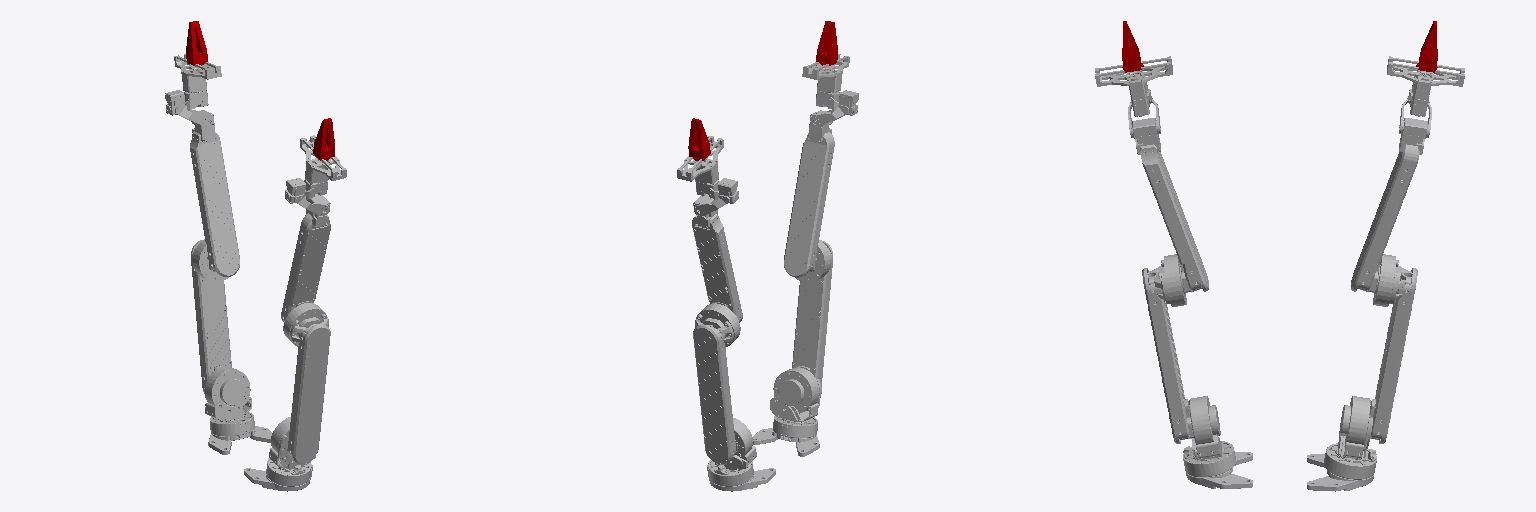
robot.urdf — anubis:
<?xml version="1.0" ?>
<!-- =================================================================================== -->
<!-- |    This document was autogenerated by xacro from pal.urdf.xacro                 | -->
<!-- |    EDITING THIS FILE BY HAND IS NOT RECOMMENDED                                 | -->
<!-- =================================================================================== -->
<robot name="anubis">
  
  <link name="base_link">
  	<inertial>
  		<!-- Inertial frame at link origin -->
		<origin xyz="0 0 0" rpy="0 0 0"/>
		<!-- Mass of the base -->
  		<mass value="132.3898489950015"/>
  		<!-- Moments of inertia about the link frame axes -->
      <inertia ixx="0.185196122711036"
            ixy="4.30144213829512E-08"
            ixz="5.81037523686401E-08"
            iyy="0.364893736238929"
            iyz="-0.000386720198091934"
            izz="0.223868521722778"/>
	</inertial>
    <visual>
      <origin xyz="0 0 0" rpy="0 0 0"/>
      <geometry>
        <mesh filename="package://anubis/meshes/anubis_base.stl"/>
      </geometry>
      <material name="">
        <color rgba="0.75294 0.75294 0.75294 1"/>
      </material>    
    </visual>
    <collision>
      <origin xyz="0 0 0" rpy="0 0 0"/>
      <geometry>
        <mesh filename="package://anubis/meshes/anubis_base.stl"/>
      </geometry>
    </collision>
  </link>
<!--- ARM1, RIGHT SLAVE-->
   <joint name="arm1_base_joint" type="fixed">
    <parent link="base_link"/>
    <child link="arm1_base_link"/>
    <origin xyz="0 0 0" rpy="0 0 0"/>
    <!-- <origin xyz="-0.095 0  0.579" rpy="0 0 0"/> -->
    <!-- <origin xyz="-0.095 -0.135470  0.623356" rpy="0.174533 0 0"/> -->
  </joint>

  <link name="arm1_base_link">
    <visual>
      <origin rpy="0 0 0" xyz="0 0 0"/>
      <geometry>
        <mesh filename="package://anubis/meshes/arm_base_link.stl"/>
      </geometry>
      <material name="">
        <color rgba="0.75294 0.75294 0.75294 1"/>
      </material>
    </visual>
    <collision>
      <origin rpy="0 0 0" xyz="0 0 0"/>
      <geometry>
        <mesh filename="package://anubis/meshes/arm_base_link.stl"/>
      </geometry>
    </collision>
  </link>

  <joint name="arm1_base_link_joint" type="revolute">
    <parent link="arm1_base_link"/>
    <child link="link11"/>
    <origin xyz="-0.095 -0.135470  0.82335578" rpy="0.174533 0 0"/>
    <axis xyz="0 0 1"/>
    <limit effort="39" lower="-2.41" upper="2.41" velocity="1.3963"/>
  </joint>
  <link name="link11">
    <inertial>
            <origin xyz="0 0 0" rpy="0 0 0" />
            <mass value="0.0608351104988555" />
            <inertia ixx="0.00008" ixy="0.00000" ixz="0.00001" iyy="0.00003" iyz="0.00000" izz="0.00007" />
    </inertial>
    <visual>
      <origin rpy="0 0 0" xyz="0 0 0"/>
      <geometry>
        <mesh filename="package://anubis/meshes/link1.stl"/>
      </geometry>
      <material name="">
        <color rgba="0.75294 0.75294 0.75294 1"/>
      </material>
    </visual>
    <collision>
      <origin rpy="0 0 0" xyz="0 0 0"/>
      <geometry>
         <mesh filename="package://anubis/meshes/link1.stl"/>
      </geometry>
    </collision>
  </link>

  <joint name="link11_joint" type="revolute">
    <parent link="link11"/>
    <child link="link12"/>
    <origin rpy="0 0 0" xyz="0 0 0.062"/>
    <axis xyz="0 1 0"/>
    <limit effort="39" lower="-2.41" upper="2.41" velocity="1.3963"/>
  </joint>
  <link name="link12">
        <inertial>
            <origin xyz="0 0 0" rpy="0 0 0" />
            <mass value="1.0733279014126" />
            <inertia ixx="0.00008" ixy="0.00000" ixz="0.00001" iyy="0.00003" iyz="0.00000" izz="0.00007" />
    </inertial>
    <visual>
      <origin rpy="0 0 0" xyz="0 0 -0.062"/>
      <geometry>
        <mesh filename="package://anubis/meshes/link2.stl"/>
      </geometry>
      <material name="">
        <color rgba="0.75294 0.75294 0.75294 1"/>
      </material>
    </visual>  
    <collision>
      <origin rpy="0 0 0" xyz="0 0 -0.062"/>
      <geometry>
        <mesh filename="package://anubis/meshes/link2.stl"/>
      </geometry>
    </collision>
  </link>
  <joint name="link12_joint" type="revolute">
    <parent link="link12"/>
    <child link="link13"/>
    <origin rpy="0 0 0" xyz="0 0 0.3"/>
    <axis xyz="0 1 0"/>
    <limit effort="39" lower="-2.41" upper="2.41" velocity="1.3963"/>
  </joint>
  <link name="link13">
    <inertial>
            <origin xyz="0 0 0" rpy="0 0 0" />
            <mass value="0.499404738025019" />
            <inertia ixx="0.00008" ixy="0.00000" ixz="0.00001" iyy="0.00003" iyz="0.00000" izz="0.00007" />
    </inertial>
    <visual>
      <origin rpy="0 0 0" xyz="0 0 -0.362"/>
      <geometry>
        <mesh filename="package://anubis/meshes/link3.stl"/>
      </geometry>
      <material name="">
        <color rgba="0.75294 0.75294 0.75294 1"/>
      </material>
    </visual>
    <collision>
      <origin rpy="0 0 0" xyz="0 0 -0.362"/>
      <geometry>
        <mesh filename="package://anubis/meshes/link3.stl"/>
      </geometry>
    </collision>
  </link>

  <joint name="link13_joint" type="revolute">
    <parent link="link13"/>
    <child link="link14"/>
    <origin rpy="0 0 0" xyz="0 0 0.32"/>
    <axis xyz="0 1 0"/>
    <limit effort="39" lower="-2.41" upper="2.41" velocity="1.3963"/>
  </joint>

  <link name="link14">
    <inertial>
            <origin xyz="0 0 0" rpy="0 0 0" />
            <mass value="0.0809712553169999" />
            <inertia ixx="0.00008" ixy="0.00000" ixz="0.00001" iyy="0.00003" iyz="0.00000" izz="0.00007" />
    </inertial>
    <visual>
      <origin rpy="0 0 0" xyz="0 0 -0.662"/>
      <geometry>
        <mesh filename="package://anubis/meshes/link4.stl"/>
      </geometry>
      <material name="">
        <color rgba="0.75294 0.75294 0.75294 1"/>
      </material>
    </visual>
    <collision>
      <origin rpy="0 0 0" xyz="0 0 -0.662"/>
      <geometry>
        <mesh filename="package://anubis/meshes/link4.stl"/>
      </geometry>
    </collision>
  </link>
  
  <joint name="link14_joint" type="revolute">
    <parent link="link14"/>
    <child link="link15"/>
    <origin rpy="0 0 0" xyz="0 0 0.04"/>
    <axis xyz="-1 0 0"/>
    <limit effort="39" lower="-2.41" upper="2.41" velocity="1.3963"/>
  </joint>

  <link name="link15">
    <inertial>
            <origin xyz="0 0 0" rpy="0 0 0" />
            <mass value="0.602357399313257" />
            <inertia ixx="0.00008" ixy="0.00000" ixz="0.00001" iyy="0.00003" iyz="0.00000" izz="0.00007" />
    </inertial>
    <visual>
      <origin rpy="0 0 0" xyz="0 0 -0.702"/>
      <geometry>
        <mesh filename="package://anubis/meshes/link5.stl"/>
      </geometry>
      <material name="">
        <color rgba="0.75294 0.75294 0.75294 1"/>
      </material>
    </visual>
     <collision>
       <origin rpy="0 0 0" xyz="0 0 -0.702"/>
       <geometry>
         <mesh filename="package://anubis/meshes/link5.stl"/>
       </geometry>
     </collision>
  </link>
  
  <joint name="link15_joint" type="revolute">
    <parent link="link15"/>
    <child link="ee_link1"/>
    <origin rpy="0 0 -1.57" xyz="0 0 0.027"/>
    <axis xyz="0 0 1"/>
    <limit effort="39" lower="-2.41" upper="2.41" velocity="1.3963"/>
  </joint>
  
  <link name="ee_link1" >
        <inertial>
            <origin xyz="0 0 0" rpy="0 0 0" />
            <mass value="0.0062357399313257" />
            <inertia ixx="0.00008" ixy="0.00000" ixz="0.00001" iyy="0.00003" iyz="0.00000" izz="0.00007" />
    </inertial>
  </link>

  <!--- gripper1-->
  <joint name="gripper_base_joint" type="fixed">
    <parent link="ee_link1"/>
    <child link="gripper_base_link"/>
    <origin rpy="0 0 0" xyz="0 0 0"/>
        <color rgba="0.75294 0.0 0.0 1"/>
  </joint>
  
  <link name="gripper_base_link" >
    <inertial>
            <origin xyz="0 0 0" rpy="0 0 0" />
            <mass value="0.62357399313257" />
            <inertia ixx="0.00008" ixy="0.00000" ixz="0.00001" iyy="0.00003" iyz="0.00000" izz="0.00007" />
    </inertial>
    <visual>
      <origin rpy="0 0 0" xyz="0.0 0 0"/>
      <geometry>
        <mesh filename="package://anubis/meshes/gripper/gripper_base_link.stl"/>
      </geometry>
      <material name="">
        <color rgba="0.75294 0.75294 0.75294 1"/>
      </material>
    </visual>
    <collision>
      <origin rpy="0 0 0" xyz="0.0 0 0"/>
      <geometry>
        <mesh filename="package://anubis/meshes/gripper/gripper_base_link.stl"/>
      </geometry>
    </collision>
  </link>

  <joint name="gripper1_joint" type="prismatic">
    <parent link="gripper_base_link"/>
    <child link="gripper1L"/>
    <origin rpy="0 0 0" xyz="0 0 0"/>
    <axis xyz="-1 0 0"/>
    <limit velocity="4.8" effort="1" lower="0" upper="0.04" />
  </joint>
  
  <link name="gripper1L" >
	<inertial>
  		<!-- Inertial frame at link origin -->
		<origin xyz="0 0 0" rpy="0 0 0"/>
		<!-- Mass of the gripper -->
  		<mass value="0.925"/>
  		<!-- Moments of inertia about the link frame axes -->
  		<inertia 
    			ixx="0.000347" ixy="0.0"    ixz="0.0"
			iyy="0.000561" iyz="0.0"
			izz="0.000771"/>
	</inertial>
    <visual>
      <origin rpy="0 0 0" xyz="0 0 0"/>
      <geometry>
        <mesh filename="package://anubis/meshes/gripper/fingerL.stl"/>
      </geometry>
      <material name="">
        <color rgba="0.75294 0.0 0.0 1"/>
      </material>
    </visual>
    <collision>
      <origin rpy="0 0 0" xyz="0 0 0"/>
      <geometry>
        <mesh filename="package://anubis/meshes/gripper/fingerL.stl"/>
</geometry>
  <contact_coefficients mu="0.5"  kp="5000.0"  kd="10.0" />
    </collision>
  </link>

  <joint name="gripper1R_joint" type="prismatic">
    <parent link="gripper_base_link"/>
    <child link="gripper1R"/>
    <origin rpy="0 0 0" xyz="0 0 0"/>
    <axis xyz="1 0 0"/>
    <limit velocity="4.8" effort="1" lower="0" upper="0.04" />
    <mimic joint="gripper1_joint" multiplier="1" offset="0" />
  </joint>

  <link name="gripper1R" >
	<inertial>
                <!-- Inertial frame at link origin -->
                <origin xyz="0 0 0" rpy="0 0 0"/>
                <!-- Mass of the gripper -->
                <mass value="0.925"/>
                <!-- Moments of inertia about the link frame axes -->
                <inertia 
                        ixx="0.000347" ixy="0.0"    ixz="0.0"
                        iyy="0.000561" iyz="0.0"
                        izz="0.000771"/>
	</inertial>
	  <visual>
      <origin rpy="0 0 0" xyz="0 0 0"/>
      <geometry>
        <mesh filename="package://anubis/meshes/gripper/fingerR.stl"/>
      </geometry>
      <material name="">
        <color rgba="0.75294 0.0 0.0 1"/>
      </material>
    </visual>
    <collision>
      <origin rpy="0 0 0" xyz="0 0 0"/>
      <geometry>
        <mesh filename="package://anubis/meshes/gripper/fingerR.stl"/>
</geometry>
<contact_coefficients mu="0.5"  kp="5000.0"  kd="10.0" />
    </collision>
  </link>


<!--- ARM2, LEFT SLAVE-->
  <joint name="arm2_base_joint" type="fixed">
    <parent link="base_link"/>
    <child link="arm2_base_link"/>
    <!-- <origin xyz="-0.095 0.135470  0.623356" rpy="0.174533 0 3.141592"/> -->
    <!-- <origin xyz="-0.095 0.135470  0.623356" rpy="-0.174533 0 0"/> -->
  </joint>


  <link name="arm2_base_link">
    <visual>
      <origin rpy="0 0 3.14159" xyz="-0.19 0 0"/>
      <geometry>
        <mesh filename="package://anubis/meshes/arm_base_link.stl"/>
      </geometry>
      <material name="">
      <color rgba="0.75294 0.75294 0.75294 1"/>
    </material>
    </visual>
    <collision> 
      <origin rpy="0 0 3.14159" xyz="-0.19 0 0"/>
      <geometry>
        <mesh filename="package://anubis/meshes/arm_base_link.stl"/>
      </geometry>
    </collision>
  </link>
  
  <joint name="arm2_base_link_joint" type="revolute">
    <parent link="arm2_base_link"/>
    <child link="link21"/>
    <origin xyz="-0.095 0.135470  0.82335578" rpy="0.174533 0 3.14159"/>
    <axis xyz="0 0 1"/>
    <limit effort="39" lower="-2.41" upper="2.41" velocity="1.3963"/>
  </joint>
  
  <link name="link21">
    <inertial>
            <origin xyz="0 0 0" rpy="0 0 0" />
            <mass value="0.0608351104988555" />
            <inertia ixx="0.00008" ixy="0.00000" ixz="0.00001" iyy="0.00003" iyz="0.00000" izz="0.00007" />
    </inertial>
    <visual>
      <origin rpy="0 0 0" xyz="0 0 0"/>
      <geometry>
        <mesh filename="package://anubis/meshes/link1.stl"/>
      </geometry>
      <material name="">
        <color rgba="0.75294 0.75294 0.75294 1"/>
      </material>
    </visual>
    <collision> 
      <origin rpy="0 0 0" xyz="0 0 0"/>
      <geometry>
        <mesh filename="package://anubis/meshes/link1.stl"/>
      </geometry>
    </collision>
  </link>

  <joint name="link21_joint" type="revolute">
    <parent link="link21"/>
    <child link="link22"/>
    <origin rpy="0 0 0" xyz="0 0 0.062"/>
    <axis xyz="0 -1 0"/>
    <limit effort="39" lower="-2.41" upper="2.41" velocity="1.3963"/>
  </joint>
  
  <link name="link22">
      <inertial>
            <origin xyz="0 0 0" rpy="0 0 0" />
            <mass value="1.0733279014126" />
            <inertia ixx="0.00008" ixy="0.00000" ixz="0.00001" iyy="0.00003" iyz="0.00000" izz="0.00007" />
    </inertial>
    <visual>
      <origin rpy="0 0 0" xyz="0 0 -0.062"/>
      <geometry>
        <mesh filename="package://anubis/meshes/link2.stl"/>
      </geometry>
      <material name="">
        <color rgba="0.75294 0.75294 0.75294 1"/>
      </material>
    </visual>
    <collision> 
      <origin rpy="0 0 0" xyz="0 0 -0.062"/>
      <geometry>
        <mesh filename="package://anubis/meshes/link2.stl"/>
      </geometry>
    </collision>
  </link>
  
  <joint name="link22_joint" type="revolute">
    <parent link="link22"/>
    <child link="link23"/>
    <origin rpy="0 0 0" xyz="0 0 0.3"/>
    <axis xyz="0 -1 0"/>
    <limit effort="39" lower="-2.41" upper="2.41" velocity="1.3963"/>
  </joint>

  <link name="link23">
    <inertial>
            <origin xyz="0 0 0" rpy="0 0 0" />
            <mass value="0.499404738025019" />
            <inertia ixx="0.00008" ixy="0.00000" ixz="0.00001" iyy="0.00003" iyz="0.00000" izz="0.00007" />
    </inertial>
    <visual>
      <origin rpy="0 0 0" xyz="0 0 -0.362"/>
      <geometry>
        <mesh filename="package://anubis/meshes/link3.stl"/>
      </geometry>
      <material name="">
        <color rgba="0.75294 0.75294 0.75294 1"/>
      </material>
    </visual>
    <collision> 
      <origin rpy="0 0 0" xyz="0 0 -0.362"/>
      <geometry>
        <mesh filename="package://anubis/meshes/link3.stl"/>
      </geometry>
    </collision>
  </link>

  <joint name="link23_joint" type="revolute">
    <parent link="link23"/>
    <child link="link24"/>
    <origin rpy="0 0 3.14159" xyz="0 0 0.32"/>
    <axis xyz="0 1 0"/>
    <limit effort="39" lower="-2.41" upper="2.41" velocity="1.3963"/>
  </joint>
  
  <link name="link24">
    <inertial>
            <origin xyz="0 0 0" rpy="0 0 0" />
            <mass value="0.0809712553169999" />
            <inertia ixx="0.00008" ixy="0.00000" ixz="0.00001" iyy="0.00003" iyz="0.00000" izz="0.00007" />
    </inertial>
    <visual>
      <origin rpy="0 0 0" xyz="0 0 -0.662"/>
      <geometry>
        <mesh filename="package://anubis/meshes/link4.stl"/>
      </geometry>
      <material name="">
        <color rgba="0.75294 0.75294 0.75294 1"/>
      </material>
    </visual>
    <collision> 
      <origin rpy="0 0 0" xyz="0 0 -0.662"/>
      <geometry>
        <mesh filename="package://anubis/meshes/link4.stl"/>
      </geometry>
    </collision>
  </link>
  <joint name="link24_joint" type="revolute">
    <parent link="link24"/>
    <child link="link25"/>
    <origin rpy="0 0 0" xyz="0 0 0.04"/>
    <axis xyz="-1 0 0"/>
    <limit effort="39" lower="-2.41" upper="2.41" velocity="1.3963"/>
  </joint>
  <link name="link25">
    <inertial>
            <origin xyz="0 0 0" rpy="0 0 0" />
            <mass value="0.602357399313257" />
            <inertia ixx="0.00008" ixy="0.00000" ixz="0.00001" iyy="0.00003" iyz="0.00000" izz="0.00007" />
    </inertial>
    <visual>
      <origin rpy="0 0 0" xyz="0 0 -0.702"/>
      <geometry>
        <mesh filename="package://anubis/meshes/link5.stl"/>
      </geometry>
      <material name="">
        <color rgba="0.75294 0.75294 0.75294 1"/>
      </material>
    </visual>
    <collision>
      <origin rpy="0 0 0" xyz="0 0 -0.702"/>
       <geometry>
         <mesh filename="package://anubis/meshes/link5.stl"/>
       </geometry>
    </collision>
  </link>

  <joint name="link25_joint" type="revolute">
    <parent link="link25"/>
    <child link="ee_link2"/>
    <origin rpy="0 0 -1.57" xyz="0 0 0.027"/>
    <axis xyz="0 0 1"/>
    <limit effort="39" lower="-2.41" upper="2.41" velocity="1.3963"/>
  </joint>
  <link name="ee_link2" >
      <inertial>
            <origin xyz="0 0 0" rpy="0 0 0" />
            <mass value="0.0062357399313257" />
            <inertia ixx="0.00008" ixy="0.00000" ixz="0.00001" iyy="0.00003" iyz="0.00000" izz="0.00007" />
    </inertial>
  </link>

    <!--- gripper2-->
  <joint name="gripper2_base_joint" type="fixed">
    <parent link="ee_link2"/>
    <child link="gripper2_base_link"/>
    <origin rpy="0 0 0" xyz="0 0 0"/>
        <color rgba="0.75294 0.0 0.0 1"/>
  </joint>
  <link name="gripper2_base_link" >
    <inertial>
            <origin xyz="0 0 0" rpy="0 0 0" />
            <mass value="0.62357399313257" />
            <inertia ixx="0.00008" ixy="0.00000" ixz="0.00001" iyy="0.00003" iyz="0.00000" izz="0.00007" />
    </inertial>
    <visual>
      <origin rpy="0 0 0" xyz="0.0 0 0"/>
      <geometry>
        <mesh filename="package://anubis/meshes/gripper/gripper_base_link.stl"/>
      </geometry>
      <material name="">
        <color rgba="0.75294 0.75294 0.75294 1"/>
      </material>
    </visual>
    <collision> 
      <origin rpy="0 0 0" xyz="0.0 0 0"/>
      <geometry>
        <mesh filename="package://anubis/meshes/gripper/gripper_base_link.stl"/>
      </geometry>
    </collision>
  </link>

  <joint name="gripper2_joint" type="prismatic">
    <parent link="gripper2_base_link"/>
    <child link="gripper2L"/>
    <origin rpy="0 0 0" xyz="0 0 0"/>
    <axis xyz="-1 0 0"/>
    <limit velocity="4.8" effort="1" lower="0" upper="0.04" />
  </joint>
  <link name="gripper2L" >
        <inertial>
                <!-- Inertial frame at link origin -->
                <origin xyz="0 0 0" rpy="0 0 0"/>
                <!-- Mass of the gripper -->
                <mass value="0.925"/>
                <!-- Moments of inertia about the link frame axes -->
                <inertia 
                        ixx="0.000347" ixy="0.0"    ixz="0.0"
                        iyy="0.000561" iyz="0.0"
                        izz="0.000771"/>
        </inertial>      
	  <visual>
      <origin rpy="0 0 0" xyz="0 0 0"/>
      <geometry>
        <mesh filename="package://anubis/meshes/gripper/fingerL.stl"/>
      </geometry>
      <material name="">
        <color rgba="0.75294 0.0 0.0 1"/>
      </material>
    </visual>
    <collision>
      <origin rpy="0 0 0" xyz="0 0 0"/>
      <geometry>
        <mesh filename="package://anubis/meshes/gripper/fingerL.stl"/>
</geometry>
<contact_coefficients mu="0.5"  kp="5000.0"  kd="10.0" />
    </collision>
  </link>

  <joint name="gripper2R_joint" type="prismatic">
    <parent link="gripper2_base_link"/>
    <child link="gripper2R"/>
    <origin rpy="0 0 0" xyz="0 0 0"/>
    <axis xyz="1 0 0"/>
    <limit velocity="4.8" effort="1" lower="0" upper="0.04" />
    <mimic joint="gripper2_joint" multiplier="1" offset="0" />
  </joint>
  <link name="gripper2R" >
	          <inertial>
                <!-- Inertial frame at link origin -->
                <origin xyz="0 0 0" rpy="0 0 0"/>
                <!-- Mass of the gripper -->
                <mass value="0.925"/>
                <!-- Moments of inertia about the link frame axes -->
                <inertia 
                        ixx="0.000347" ixy="0.0"    ixz="0.0"
                        iyy="0.000561" iyz="0.0"
                        izz="0.000771"/>
        </inertial>
	  <visual>
      <origin rpy="0 0 0" xyz="0 0 0"/>
      <geometry>
        <mesh filename="package://anubis/meshes/gripper/fingerR.stl"/>
      </geometry>
      <material name="">
        <color rgba="0.75294 0.0 0.0 1"/>
      </material>
    </visual>
    <collision> 
      <origin rpy="0 0 0" xyz="0 0 0"/>
      <geometry>
        <mesh filename="package://anubis/meshes/gripper/fingerR.stl"/>
      </geometry>
<contact_coefficients mu="0.5"  kp="5000.0"  kd="10.0" />
    </collision>
  </link>
</robot>

--- What the picture shows (computed from the rendered views, not written in the file) ---
3 views of the same robot in one strip: view 1: azimuth 30°, elevation 25°; view 2: azimuth 150°, elevation 25°; view 3: azimuth 270°, elevation 25° (orthographic).
Model anubis with 21 links and 20 joints (12 revolute, 4 prismatic, 4 fixed), rooted at base_link, posed all joints at 0.
Visible links, largest first — view 1: link12, link23, link22, link13, link21, arm2_base_link, arm1_base_link, gripper_base_link, gripper2_base_link, link11, link24, link14 (+2 smaller); view 2: link22, link13, link12, link23, link11, arm1_base_link, arm2_base_link, gripper2_base_link, gripper_base_link, link21, link14, link24 (+2 smaller); view 3: link12, link22, link13, link23, arm2_base_link, arm1_base_link, link21, link11, gripper2_base_link, gripper_base_link.
Boxes of the visible links, x1,y1,x2,y2 form: link12: (283,303,330,463); link23: (190,110,239,276); link22: (191,239,231,393); link13: (281,194,330,321); link21: (204,367,251,421); arm2_base_link: (208,412,271,454); arm1_base_link: (244,458,312,491); gripper_base_link: (300,135,346,183); gripper2_base_link: (174,54,221,92); link11: (269,417,315,469); link24: (165,90,213,127); link14: (285,178,329,215); link22: (693,303,740,464); link13: (784,110,834,277); link12: (792,240,832,386); link23: (692,194,742,322); link11: (770,367,821,422); arm1_base_link: (753,416,819,456); arm2_base_link: (707,460,775,491); gripper2_base_link: (677,136,723,183); gripper_base_link: (802,54,849,92); link21: (715,418,756,470); link14: (810,90,858,127); link24: (694,178,738,216); link12: (1142,254,1193,443); link22: (1369,254,1417,443); link13: (1131,118,1208,292); link23: (1351,118,1428,292); arm2_base_link: (1307,443,1376,491); arm1_base_link: (1183,441,1252,488); link21: (1338,396,1372,460); link11: (1189,396,1221,460); gripper2_base_link: (1387,56,1464,100); gripper_base_link: (1095,56,1172,100).
Bounding box of the posed robot: 0.163 × 0.6966 × 0.9429 m (x, y, z).
Meshes: 10 distinct files referenced, 18 mesh visuals loaded (9 binary STL); not drawn: 1 (reference not matched to a file when rendering).
